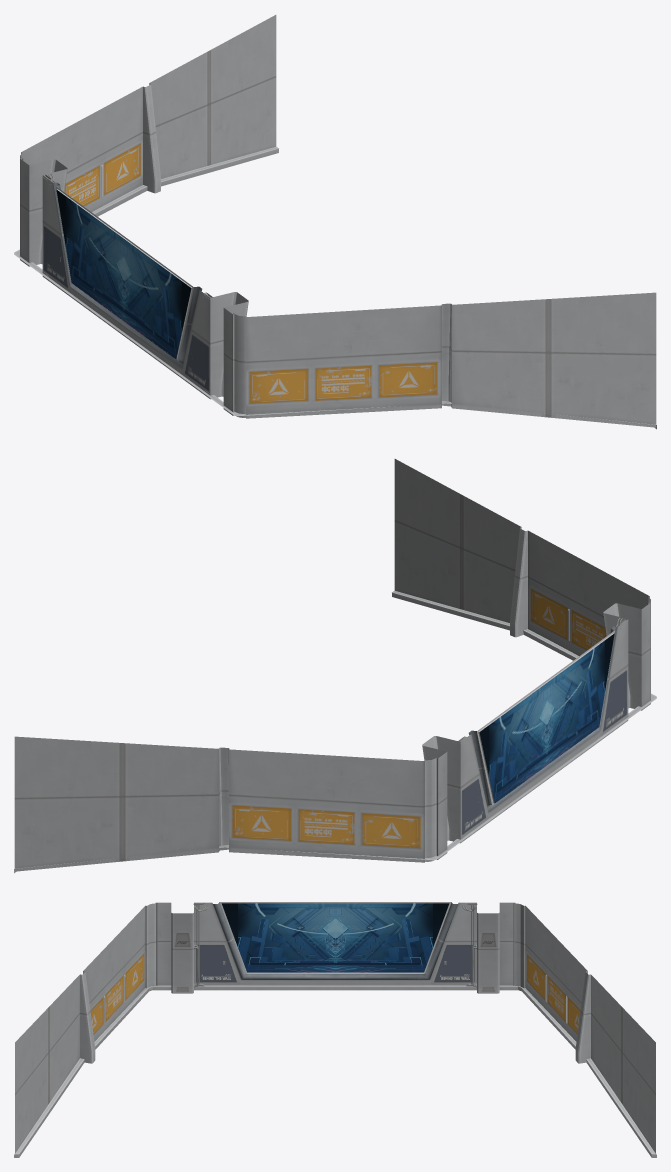
The model's file is BC_Fbx_Csd_QiangMian_2.FBX.
3 views of the same model, one above another, from view 1: azimuth 30°, elevation 25°; view 2: azimuth 150°, elevation 25°; view 3: azimuth 270°, elevation 25° (orthographic). The views are drawn at different scales.
Visible parts, largest first — view 1: BC_Fbx_Csd_QiangMian_2; view 2: BC_Fbx_Csd_QiangMian_2; view 3: BC_Fbx_Csd_QiangMian_2.
Part boxes in pixels (x1,y1,x2,y2): BC_Fbx_Csd_QiangMian_2: (14,15,656,429); BC_Fbx_Csd_QiangMian_2: (14,459,656,873); BC_Fbx_Csd_QiangMian_2: (14,902,656,1157).
Size of the model in its own units: 25.19 by 9.6 by 48.51.
